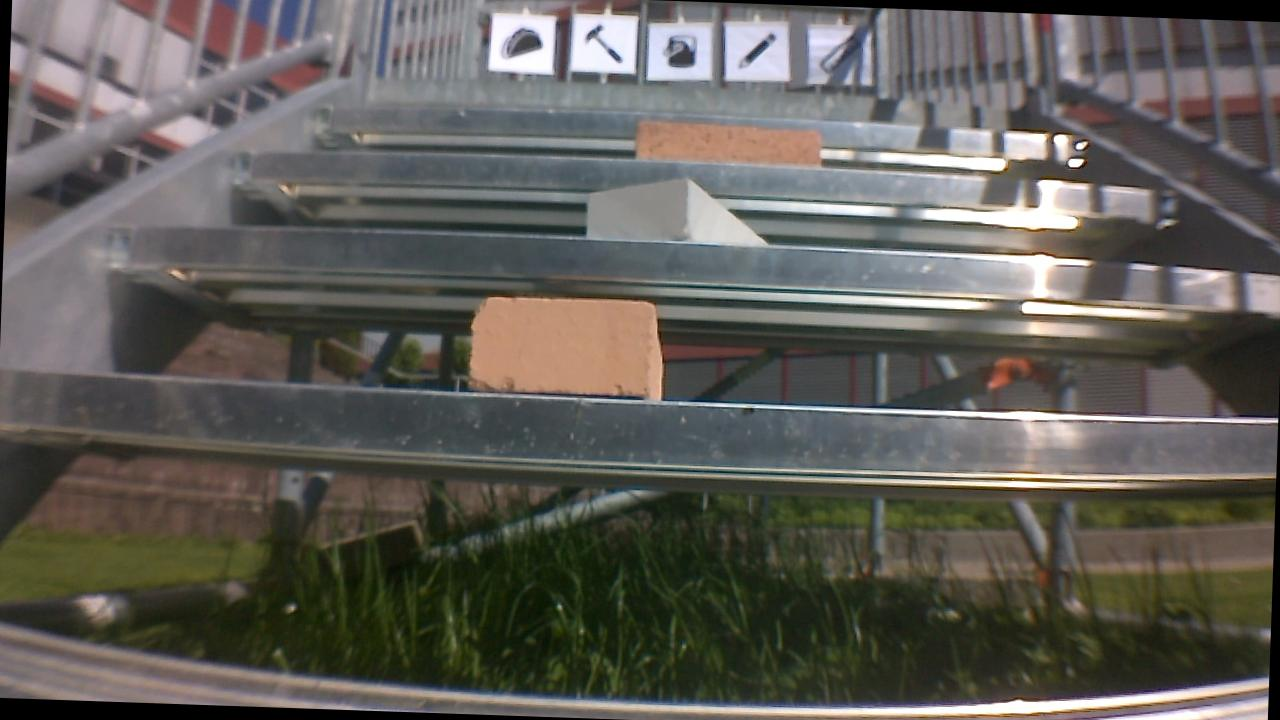brick: (457, 291, 664, 401), (584, 177, 782, 241), (629, 120, 821, 166)
edge: (3, 376, 1278, 469), (85, 217, 1280, 311), (220, 156, 1190, 221), (314, 103, 1092, 165), (368, 82, 1024, 122)
